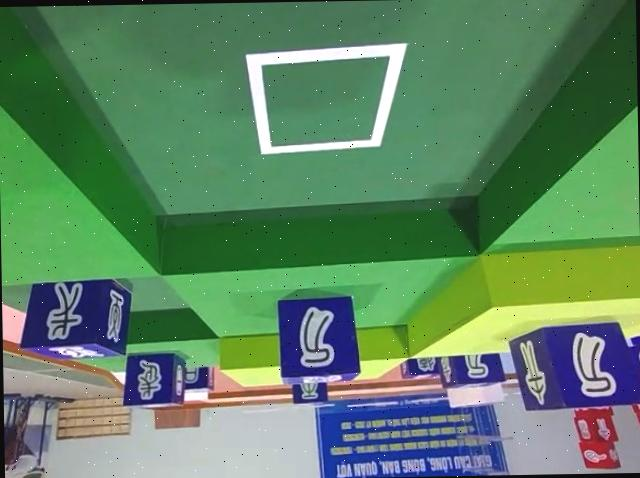R2 Fake Blue: (506, 314, 640, 406), (20, 277, 133, 360), (275, 292, 362, 382), (124, 351, 187, 408), (438, 352, 506, 390), (397, 353, 440, 377), (291, 378, 329, 404), (181, 364, 214, 391)
